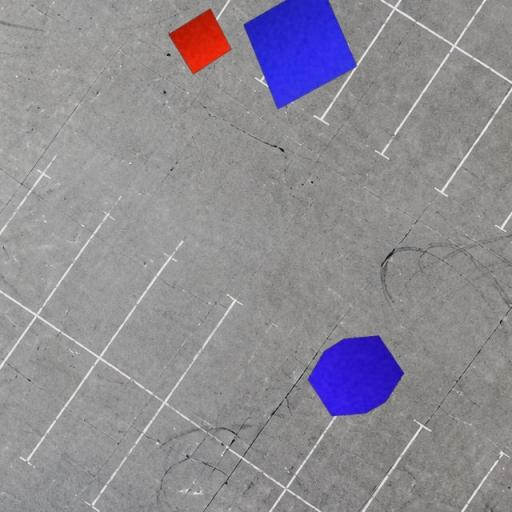BLUE_SQUARE: (242, 0, 358, 110)
RED_SQUARE: (168, 8, 233, 75)
